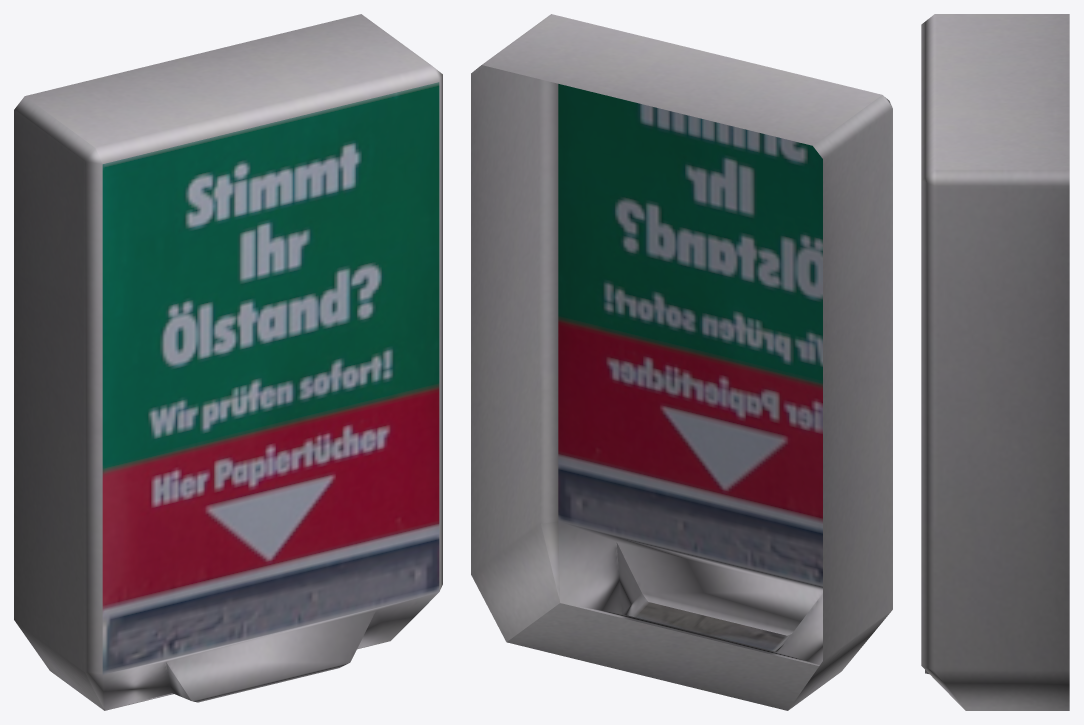
The model's file is tankstelle_papierspender.fbx.
3 views of the same model, side by side, from view 1: azimuth 30°, elevation 25°; view 2: azimuth 150°, elevation 25°; view 3: azimuth 270°, elevation 25° (orthographic). The views are drawn at different scales.
Visible parts, largest first — view 1: Mesh; view 2: Mesh; view 3: Mesh.
Part boxes in pixels (x1,y1,x2,y2): Mesh: (14, 14, 442, 710); Mesh: (471, 14, 892, 710); Mesh: (921, 14, 1069, 710).
Bounding box in the file's own units: 21.72 × 33.74 × 8.19.
